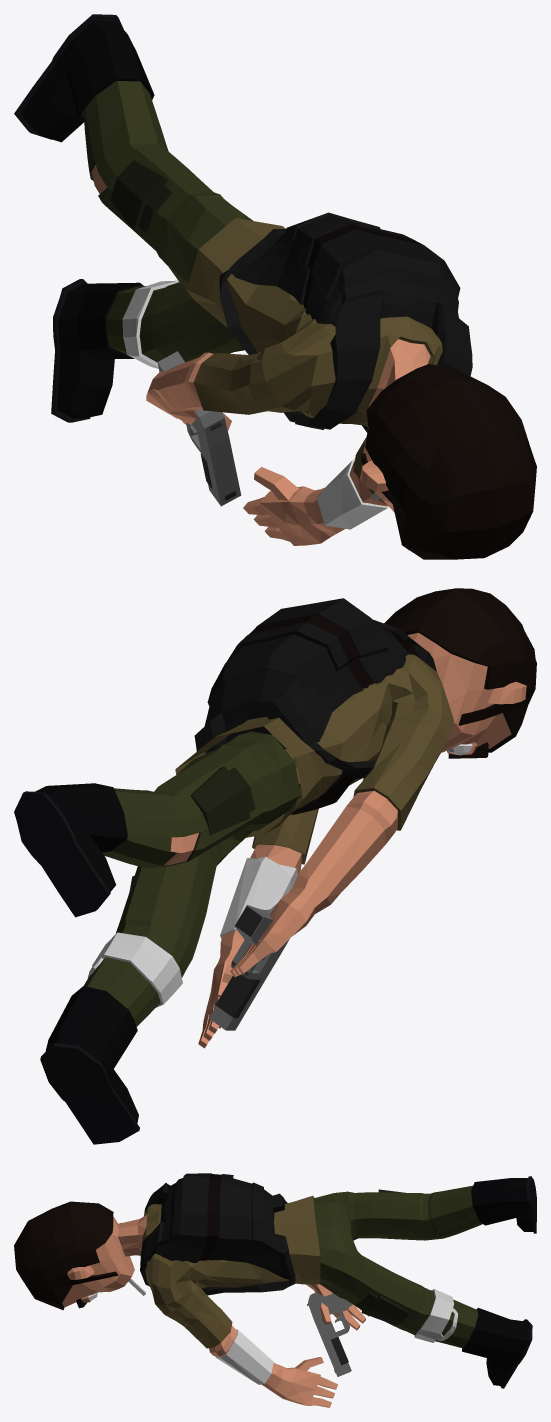
Rendered from frame_0020.obj.
3 renders of one model, top to bottom at view 1: azimuth 30°, elevation 25°; view 2: azimuth 150°, elevation 25°; view 3: azimuth 270°, elevation 25°, orthographic. The views are drawn at different scales.
Parts seen in each view (by area): view 1: Body, Gun; view 2: Body, Gun; view 3: Body, Gun.
Part boxes in pixels (bbox=[...]): Body: bbox=[14, 14, 536, 559]; Gun: bbox=[157, 351, 241, 506]; Body: bbox=[14, 588, 536, 1144]; Gun: bbox=[209, 903, 289, 1030]; Body: bbox=[14, 1173, 536, 1407]; Gun: bbox=[307, 1292, 352, 1376].
Bounding box in the file's own units: 1.11 × 2 × 4.12.
